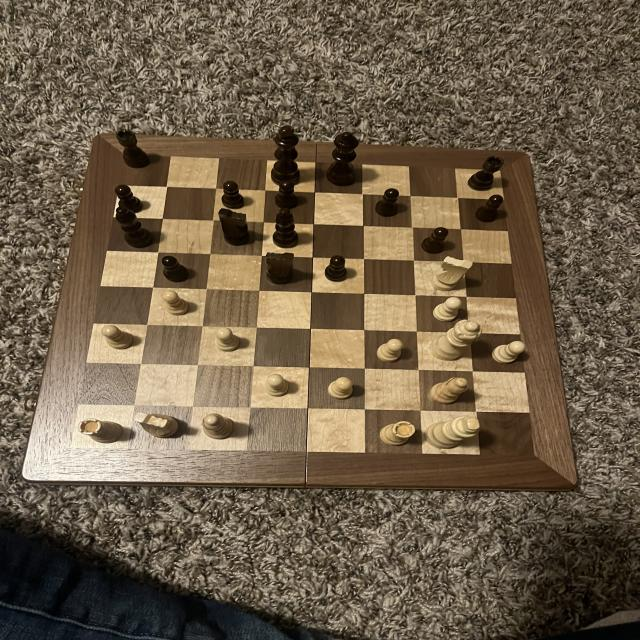bishop: (113, 204, 160, 251), (270, 206, 301, 252)
black-bishop: (267, 123, 305, 189)
black-king: (218, 207, 255, 247), (262, 252, 302, 286)
black-knight: (471, 192, 507, 225), (112, 182, 146, 214), (420, 224, 452, 256), (158, 254, 192, 284), (373, 186, 402, 220), (220, 179, 248, 210), (322, 253, 349, 284), (273, 178, 299, 210)
black-pawn: (327, 130, 363, 188)
black-queen: (464, 154, 509, 193), (115, 126, 153, 172)
black-rook: (198, 412, 241, 442), (428, 376, 470, 405)
white-bishop: (424, 414, 484, 449)
white-king: (429, 255, 478, 292), (132, 409, 184, 440)
white-knight: (210, 326, 247, 354), (99, 324, 136, 352), (323, 376, 360, 402), (160, 288, 192, 317), (430, 296, 464, 323), (262, 370, 293, 398), (492, 340, 528, 364), (376, 337, 406, 362)
white-pawn: (425, 317, 485, 362)
white-queen: (77, 417, 129, 446), (375, 418, 420, 448)
